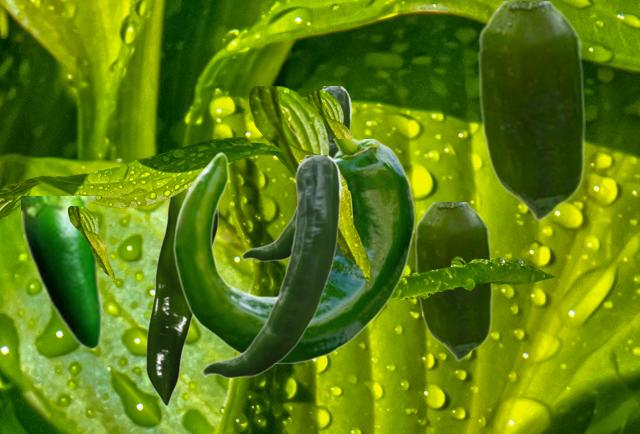green_chili: (173, 139, 415, 362), (201, 155, 341, 378), (477, 1, 584, 220), (241, 86, 351, 261), (145, 189, 217, 405), (21, 196, 102, 350), (414, 202, 491, 360)
